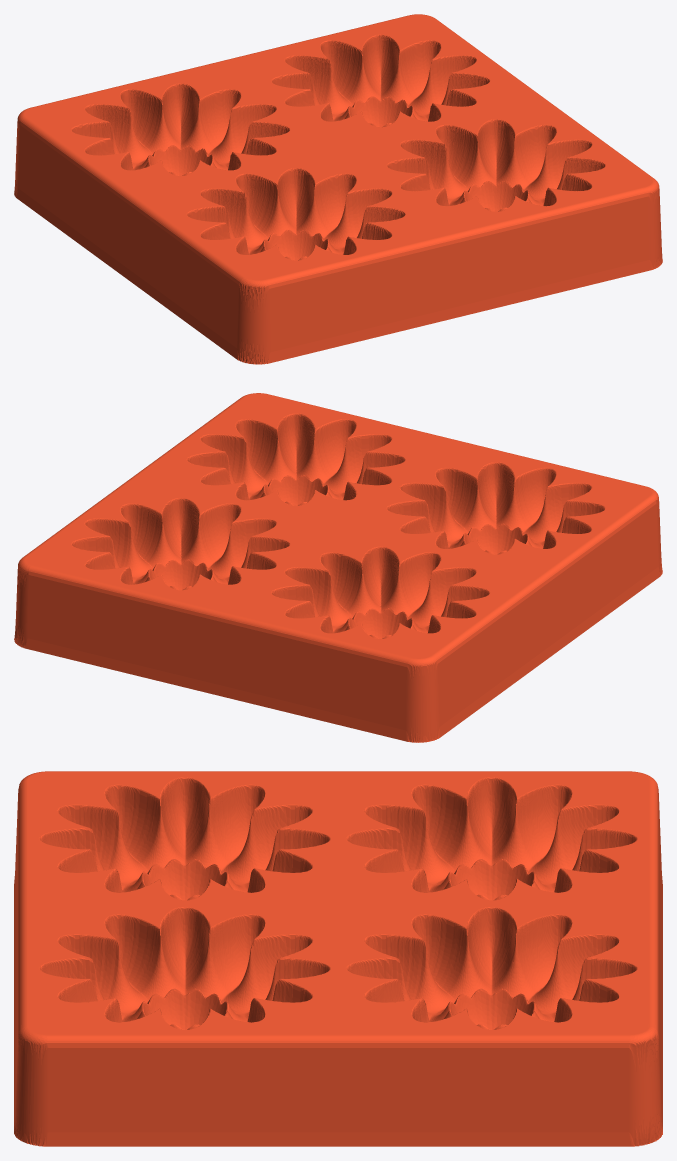
File: mold.glb
3 views of the same model, one above another, from view 1: azimuth 30°, elevation 25°; view 2: azimuth 150°, elevation 25°; view 3: azimuth 270°, elevation 25° (orthographic). The views are drawn at different scales.
Parts seen in each view (by area): view 1: geometry_0; view 2: geometry_0; view 3: geometry_0.
Boxes of the visible parts, left/top/right/bottom form: geometry_0: left=14, top=14, right=662, bottom=364; geometry_0: left=14, top=393, right=662, bottom=742; geometry_0: left=14, top=771, right=662, bottom=1146.
Bounding box in the file's own units: 0.1721 × 0.031 × 0.1721.
